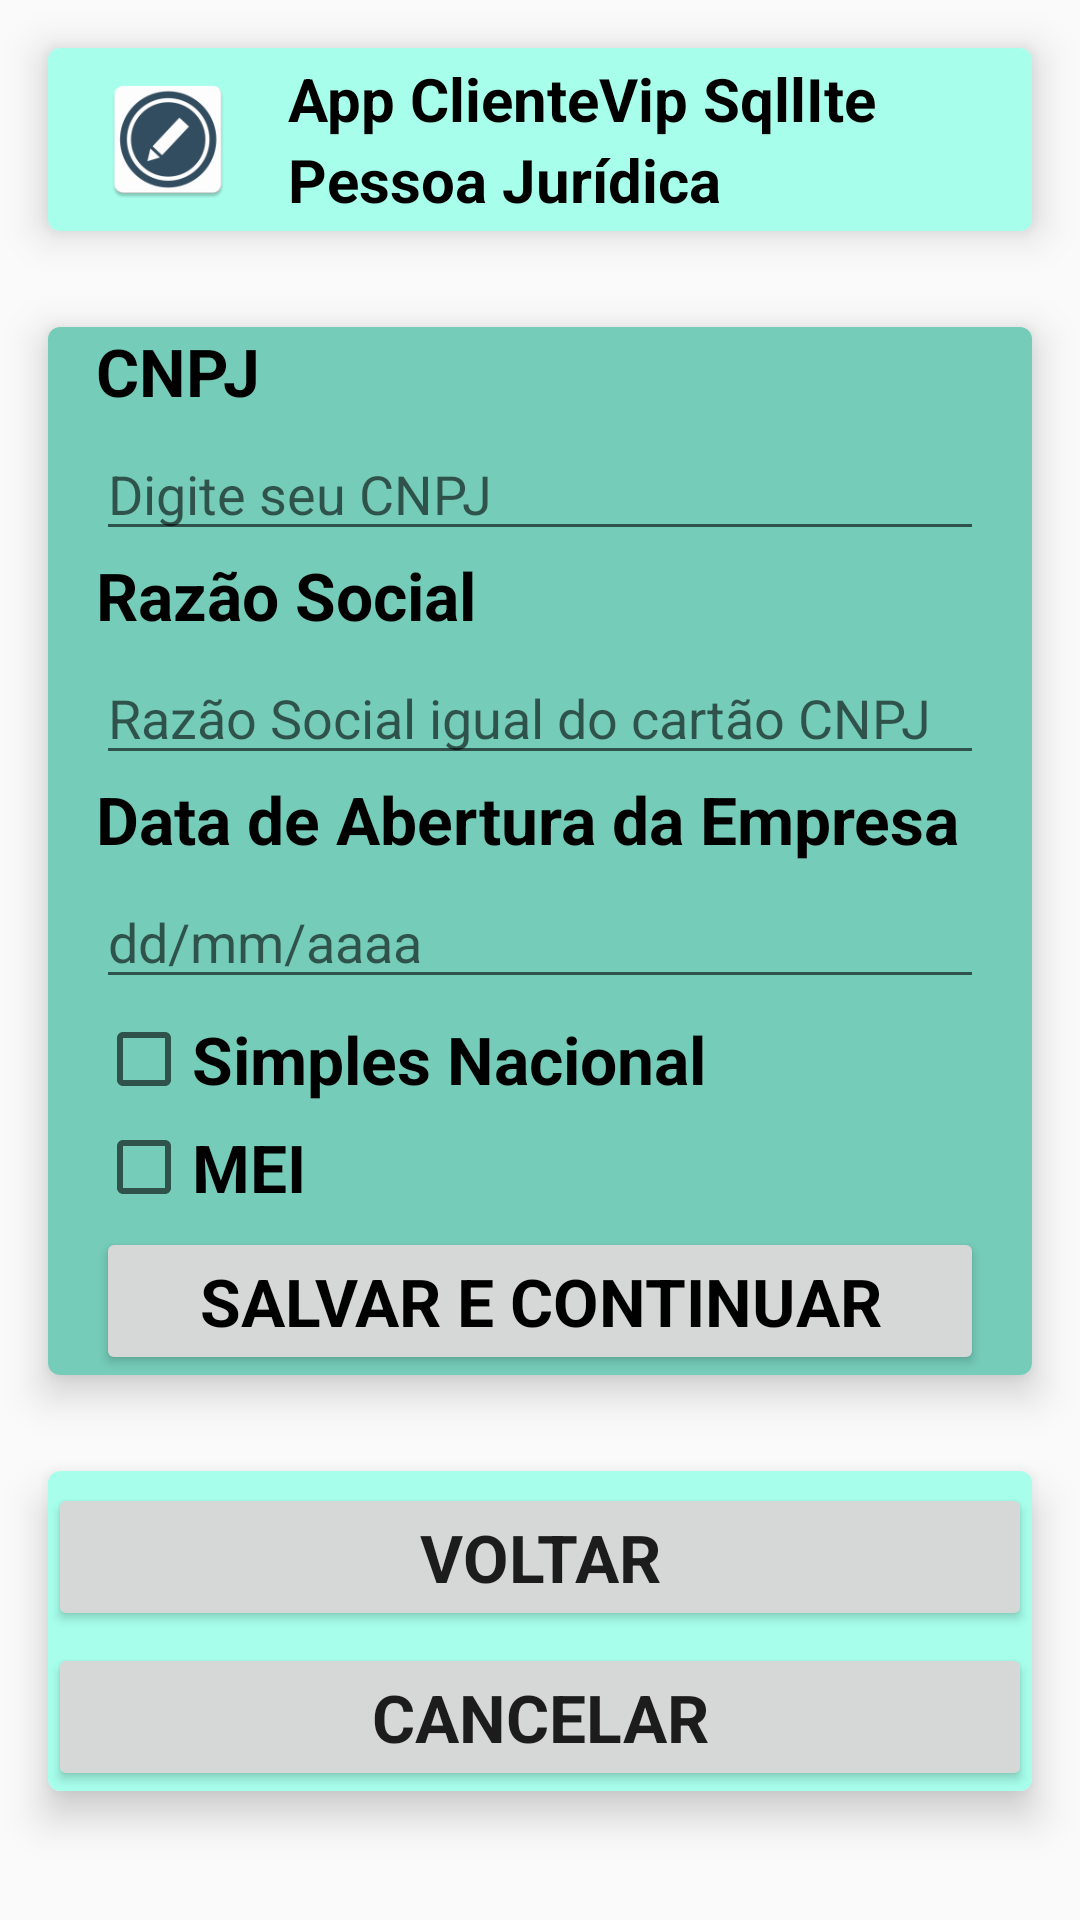

Icons on this 1080 x 1920 Android screen, each with the point to tap as (x=x, y=y):
novo cadastro: (x=168, y=141)
